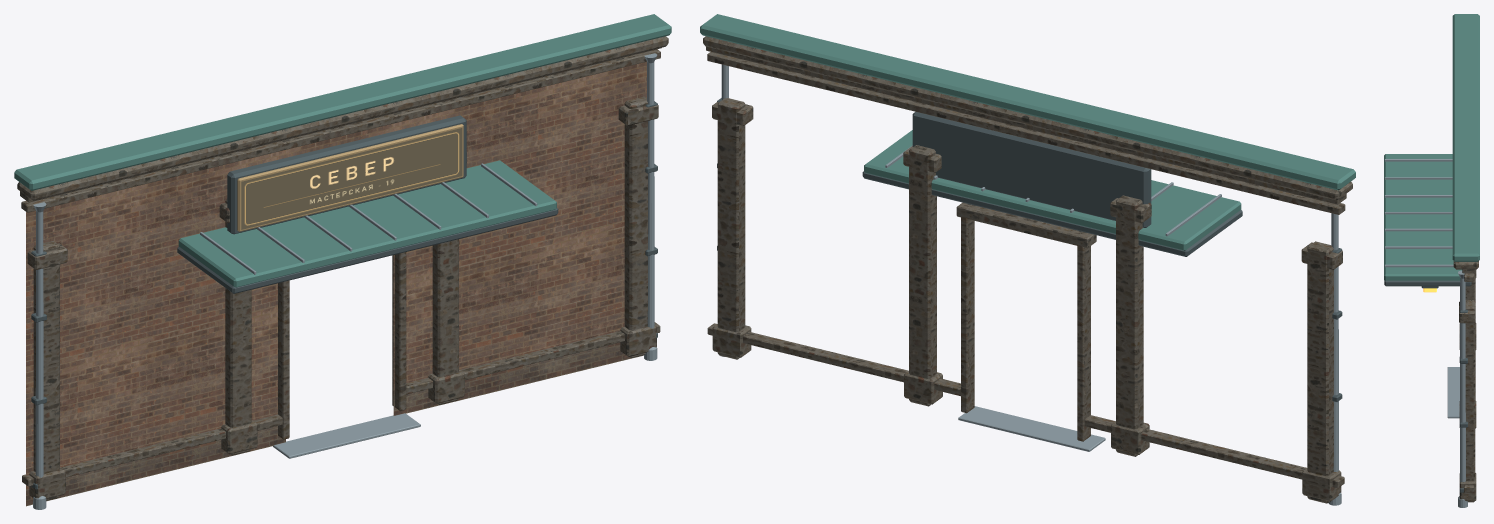
The model's file is facade.glb.
3 renders of one model, left to right at view 1: azimuth 30°, elevation 25°; view 2: azimuth 150°, elevation 25°; view 3: azimuth 270°, elevation 25°, orthographic. The views are drawn at different scales.
Parts seen in each view (by area): view 1: facade; view 2: facade; view 3: facade.
Boxes of the visible parts, x1,y1,x2,y2 form: facade: (14, 14, 671, 509); facade: (700, 14, 1355, 505); facade: (1384, 14, 1479, 507).
Size of the model in its own units: 8.37 by 4.2 by 1.4.
9 materials, 4 textured.
